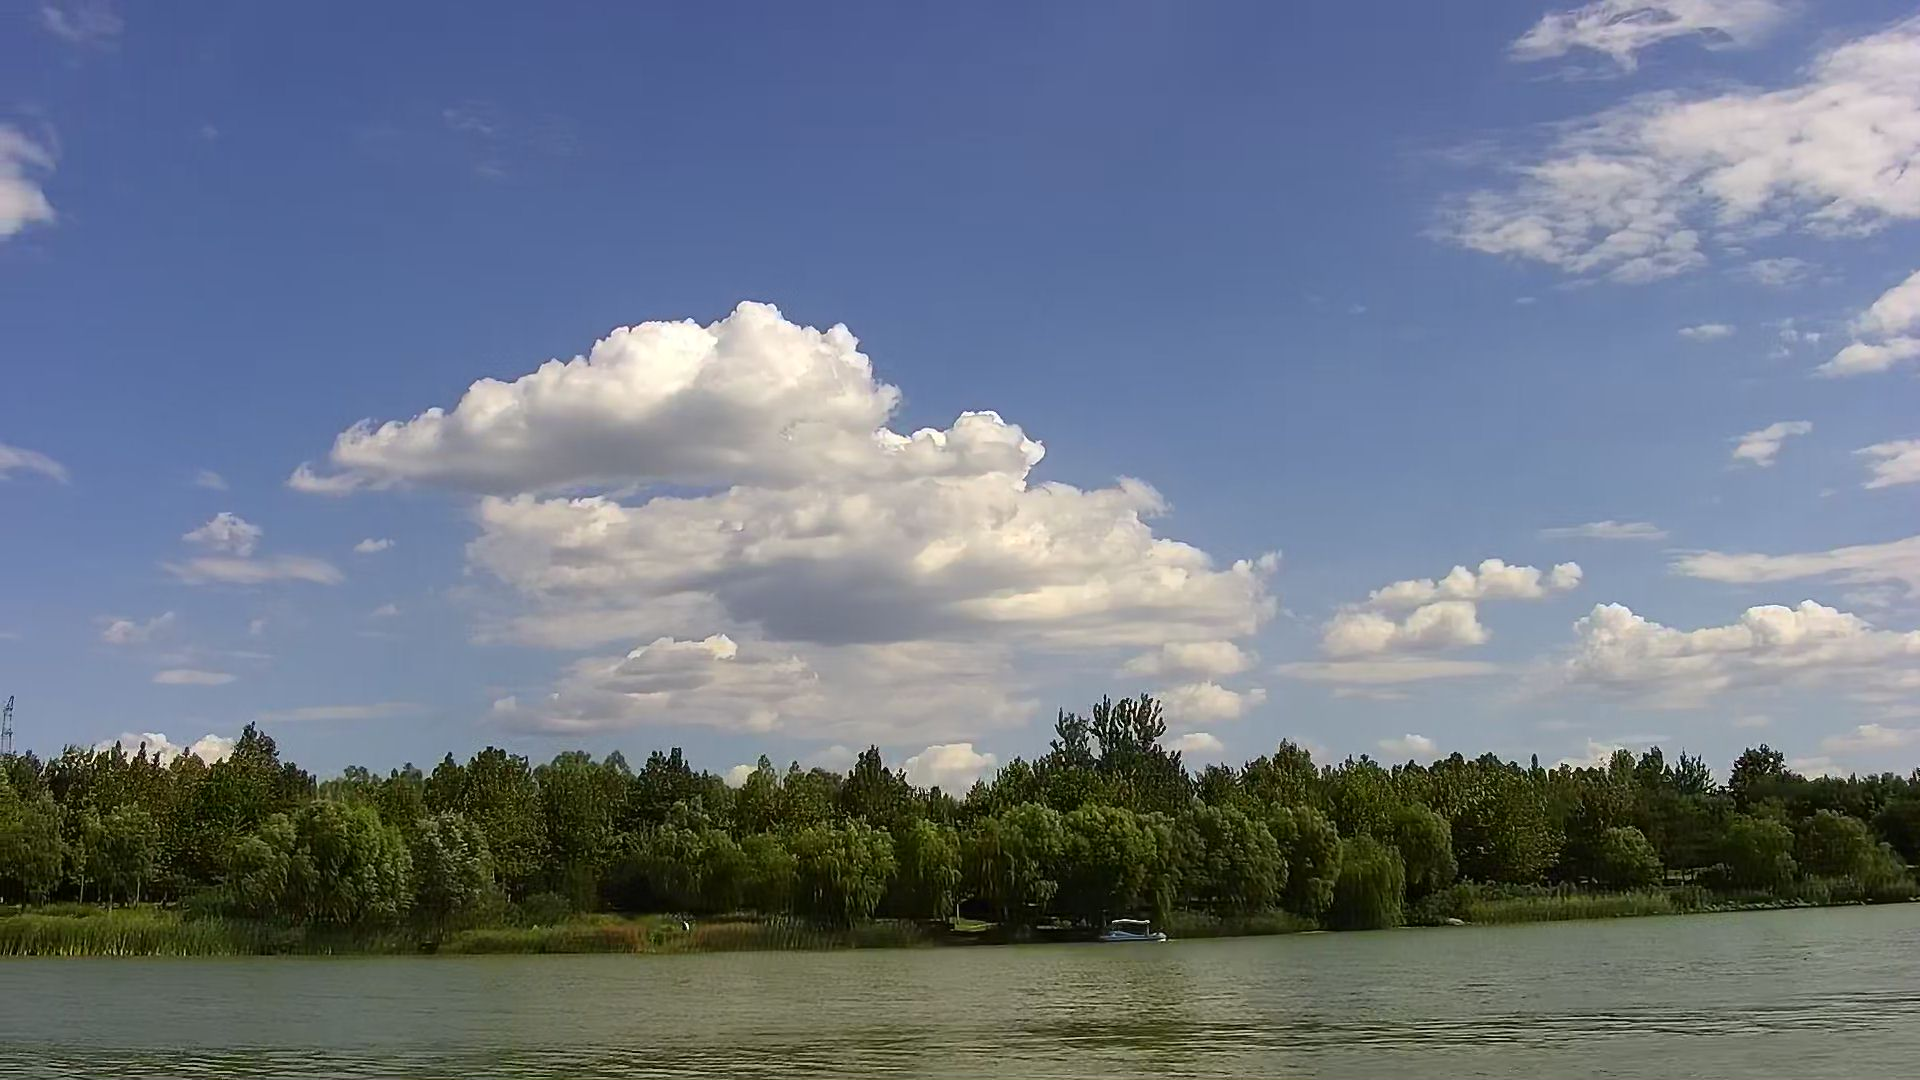boat: (1095, 918, 1168, 945)
